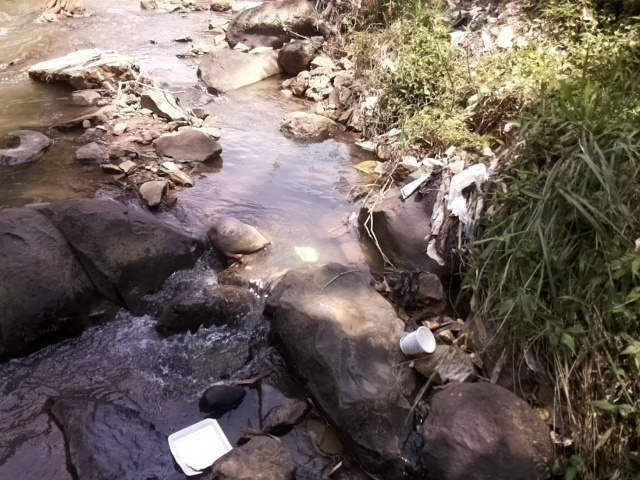Sampah_Styrofoam: (165, 416, 233, 476), (397, 325, 439, 359)
